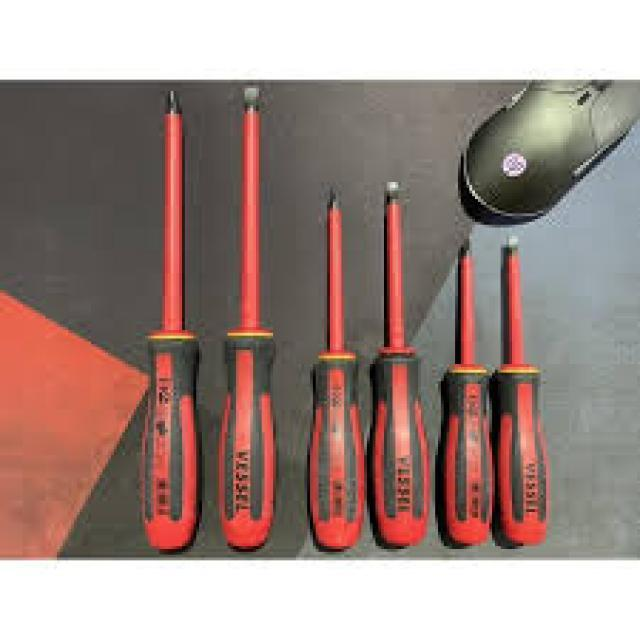screwdriver: (140, 80, 204, 554), (215, 81, 278, 556), (306, 184, 372, 554), (370, 180, 432, 550), (432, 236, 495, 549), (494, 232, 554, 547)
